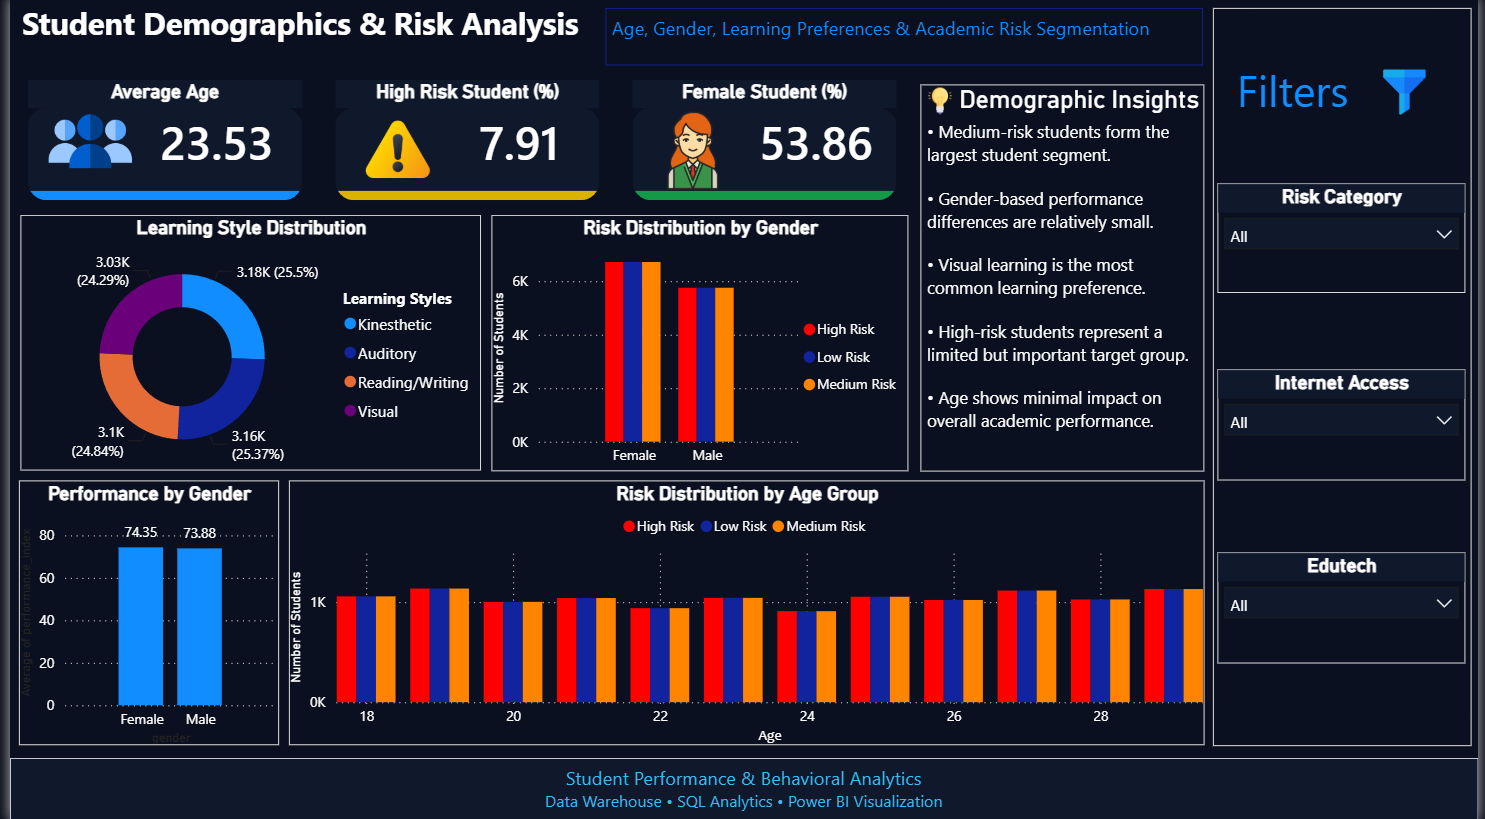

This screenshot's page, from the dashboard's own definition file:
{"tool":"powerbi","page":{"name":"Demographics & Risk Analysis","canvas":[1280,720],"ordinal":3},"visuals":[{"type":"shape","box":[1048.6,10.5,225,643],"z":0},{"type":"clusteredColumnChart","title":"Performance by Gender","fields":{"Y":["Avg(Fact_Performance.performance_index)"],"Category":["Dim_Students.gender"]},"box":[8.2,422.7,226.4,230.9],"z":1000},{"type":"clusteredColumnChart","title":"Risk Distribution by Age Group","fields":{"Y":["CountNonNull(Dim_Students.student_id)"],"Category":["Dim_Students.age"],"Series":["Fact_Performance.risk_category"]},"box":[242.7,422.7,798.2,230.9],"z":2000},{"type":"clusteredColumnChart","title":"Risk Distribution by Gender","fields":{"Category":["Dim_Students.gender"],"Series":["Fact_Performance.risk_category"],"Y":["CountNonNull(Dim_Students.student_id)"]},"box":[419.7,190.9,363.5,223.6],"z":3000},{"type":"donutChart","title":"Learning Style Distribution","fields":{"Category":["Dim_Students.learning_style"],"Y":["CountNonNull(Dim_Students.student_id)"]},"box":[8.6,191.4,401.4,222.9],"z":4000},{"type":"slicer","title":"Risk Category","fields":{"Values":["educational_bi_framework fact_performance.risk_category"]},"box":[1052.6,163.4,215.7,95.4],"z":5000},{"type":"slicer","title":"Edutech","fields":{"Values":["Dim_Environment.edutech"]},"box":[1052.6,485.1,215.7,96.8],"z":6000},{"type":"slicer","title":"Internet Access","fields":{"Values":["Dim_Environment.internet_access"]},"box":[1052.6,325.6,215.7,96.8],"z":7000},{"type":"textbox","box":[0,0,506,73.2],"z":8000},{"type":"textbox","box":[519.4,10.6,520.9,50],"z":9000},{"type":"cardVisual","title":"High Risk Student (%)","fields":{"Data":["Dim_Students.High Risk Students %"]},"box":[283.8,73.1,230,104.6],"z":10000},{"type":"cardVisual","title":"Female Student (%)","fields":{"Data":["Dim_Students.Female Students %"]},"box":[543.1,73.1,230,104.6],"z":11000},{"type":"image","box":[543.1,100.8,105.4,67.7],"z":13000},{"type":"textbox","box":[1063.8,51.2,216.2,61.2],"z":15000},{"type":"image","box":[1157.2,64.1,116.4,39.2],"z":16000},{"type":"textbox","box":[0,664.2,1280,56],"z":17000},{"type":"cardVisual","title":"Average Age","fields":{"Data":["Avg(Dim_Students.age)"]},"box":[15.1,72.7,239.2,104.5],"z":18000},{"type":"image","box":[283.8,103.1,108.5,63.1],"z":19000},{"type":"image","box":[15.1,90.9,109,72.7],"z":20000},{"type":"textbox","title":"Demographic Insights","box":[793.7,77.1,247.1,337.3],"z":21000},{"type":"image","box":[778.5,79.2,65.4,23.1],"z":22000}]}

Visuals, with their boxes in screenshot pixels (x1, y1, x2, y2), scaled from the page's 1280x720 canvas onto the 1485x819 screenshot:
shape: crop(1217, 12, 1478, 743)
"Performance by Gender" clusteredColumnChart: crop(10, 481, 272, 743)
"Risk Distribution by Age Group" clusteredColumnChart: crop(282, 481, 1208, 743)
"Risk Distribution by Gender" clusteredColumnChart: crop(487, 217, 909, 471)
"Learning Style Distribution" donutChart: crop(10, 218, 476, 471)
"Risk Category" slicer: crop(1221, 186, 1471, 294)
"Edutech" slicer: crop(1221, 552, 1471, 662)
"Internet Access" slicer: crop(1221, 370, 1471, 480)
textbox: crop(0, 0, 587, 83)
textbox: crop(603, 12, 1207, 69)
"High Risk Student (%)" cardVisual: crop(329, 83, 596, 202)
"Female Student (%)" cardVisual: crop(630, 83, 897, 202)
image: crop(630, 115, 752, 192)
textbox: crop(1234, 58, 1484, 128)
image: crop(1343, 73, 1478, 118)
textbox: crop(0, 756, 1484, 818)
"Average Age" cardVisual: crop(18, 83, 295, 202)
image: crop(329, 117, 455, 189)
image: crop(18, 103, 144, 186)
"Demographic Insights" textbox: crop(921, 88, 1207, 471)
image: crop(903, 90, 979, 116)
